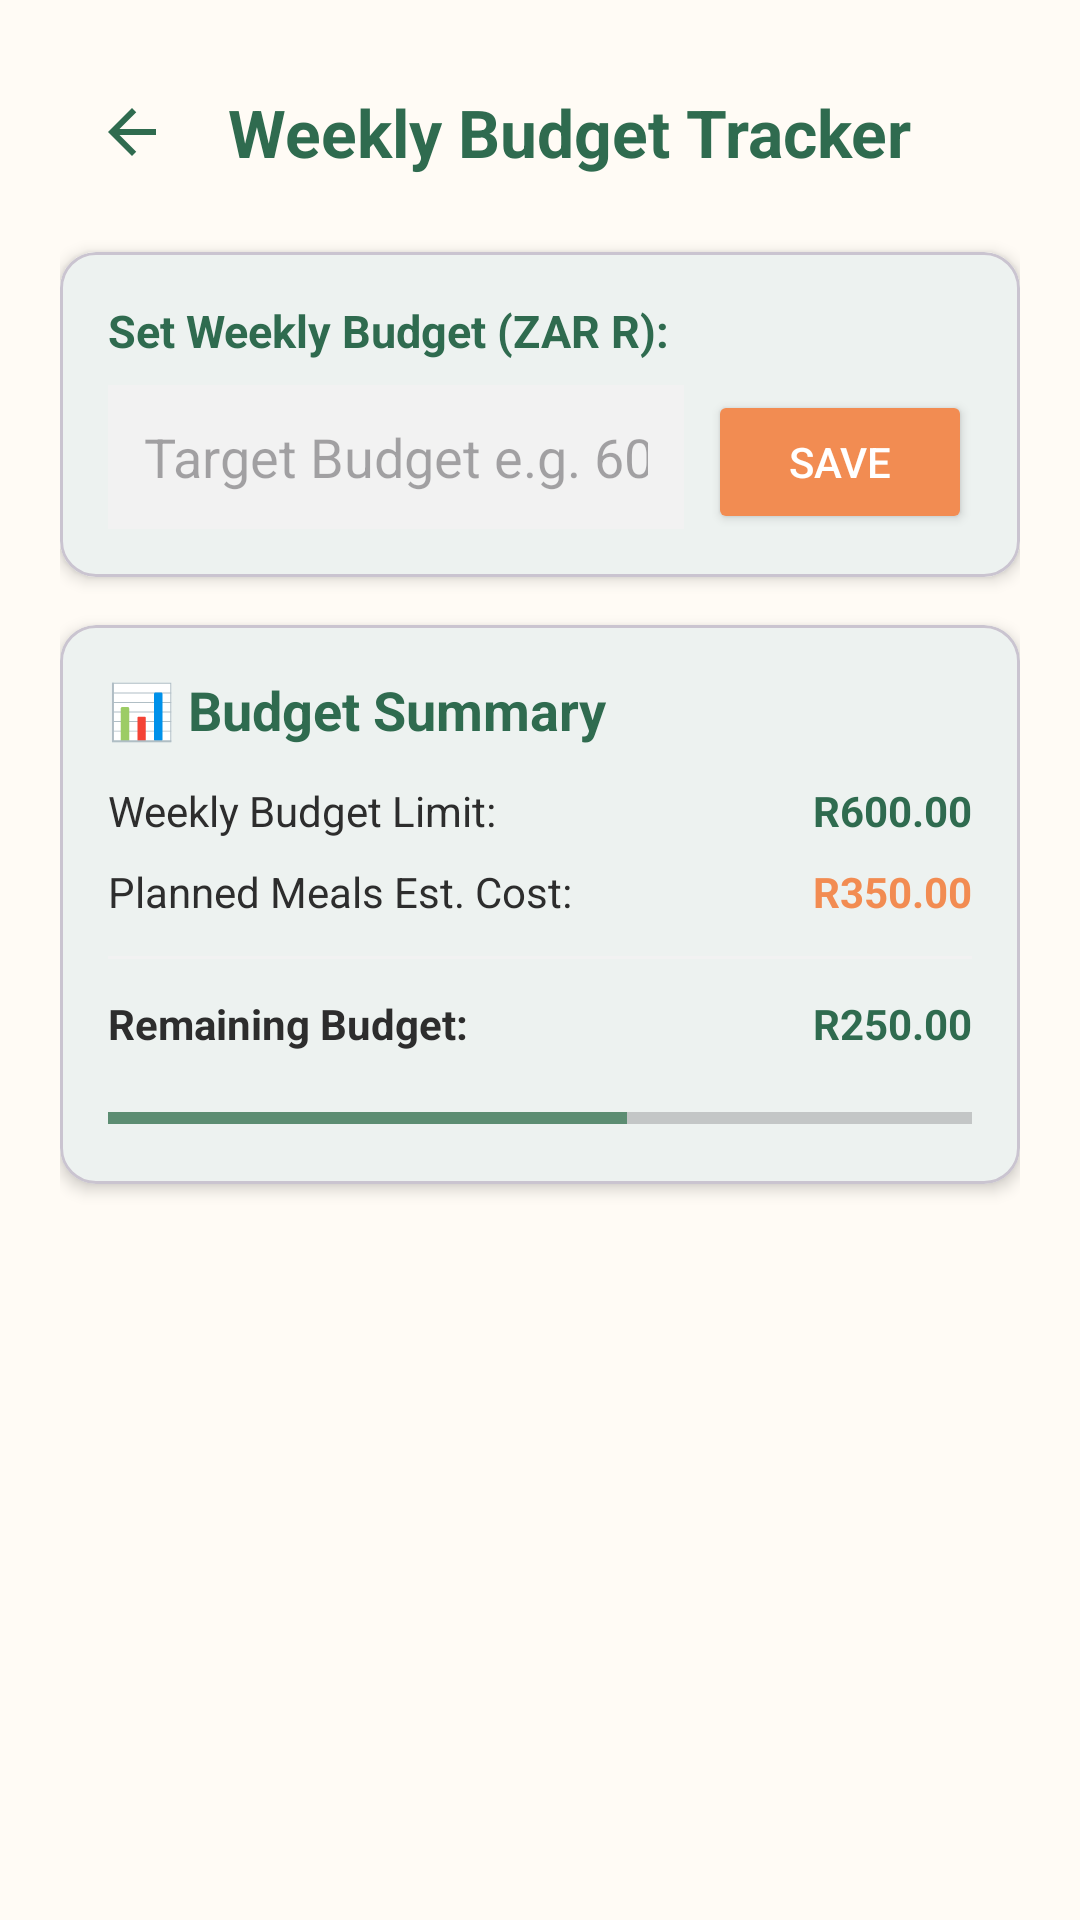

Where icons sit on this 1080×1920 app screen, as (x1, y1, x2, y2):
Back: (108, 108, 156, 156)
